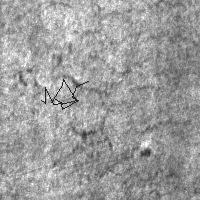crazing: (13, 23, 158, 106), (50, 117, 178, 191), (41, 79, 88, 109)
